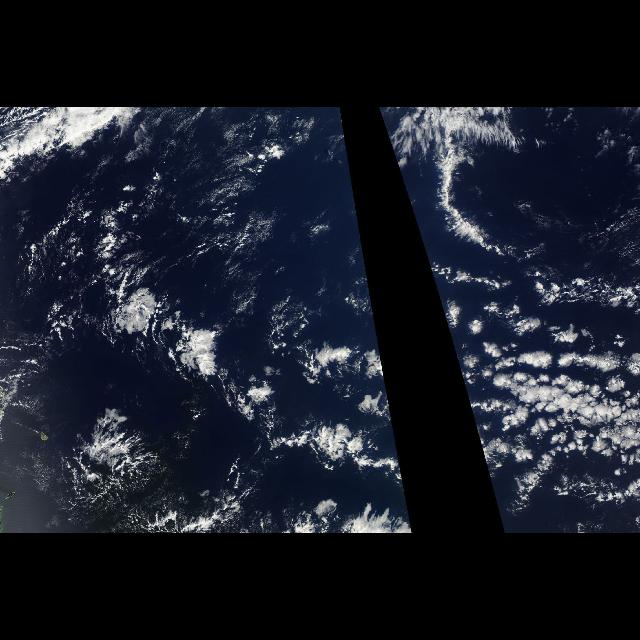Fish: (45, 237, 279, 425)
Flower: (72, 229, 340, 466)
Gravel: (476, 320, 640, 482)
Sugar: (422, 244, 636, 486), (290, 244, 404, 486)
